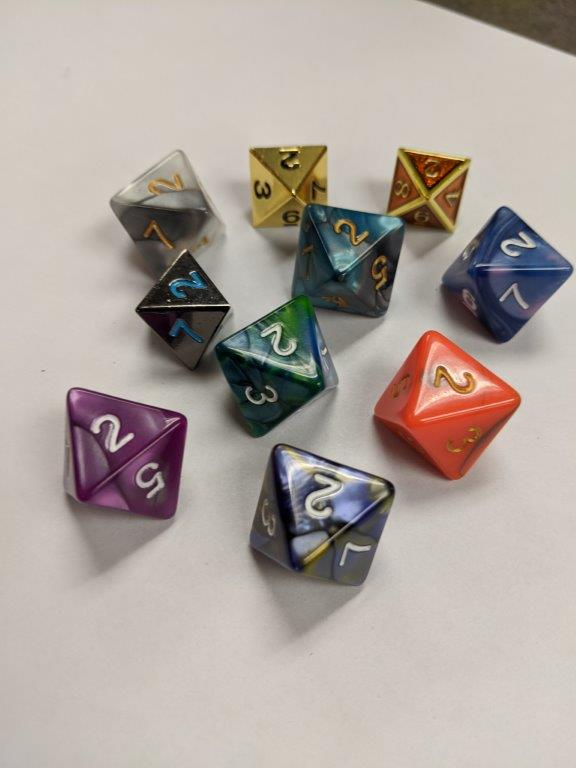d8-2: (369, 331, 525, 482), (247, 443, 397, 586), (444, 204, 575, 345), (215, 295, 338, 440), (65, 385, 187, 521), (111, 149, 222, 277), (289, 203, 404, 317), (134, 248, 229, 374), (383, 148, 471, 232), (251, 141, 329, 227)
